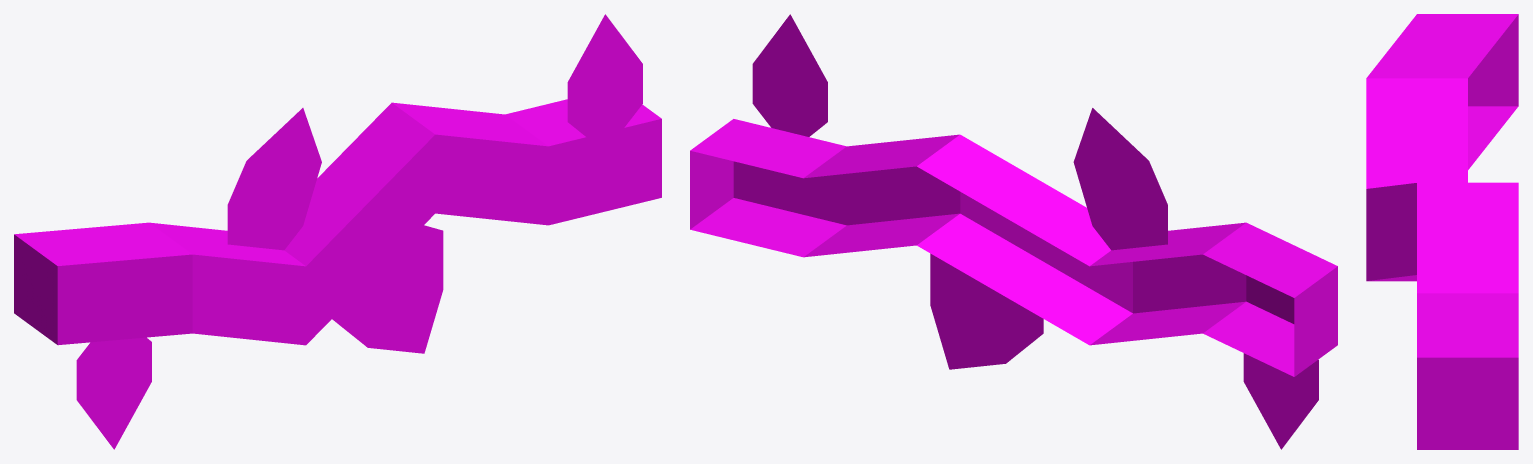
Rendered from vine.obj.
The picture shows the model from 3 angles, left to right: view 1: azimuth 30°, elevation 25°; view 2: azimuth 150°, elevation 25°; view 3: azimuth 270°, elevation 25°; orthographic projection. The views are drawn at different scales.
Parts seen in each view (by area): view 1: vine; view 2: vine; view 3: vine.
Part boxes in pixels (<box>): vine: <box>14,14,661,449</box>; vine: <box>690,14,1337,449</box>; vine: <box>1366,14,1518,449</box>.
Bounding box in the file's own units: 1.28 × 0.64 × 0.24.
